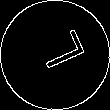L_SW: (25, 31, 85, 79)
